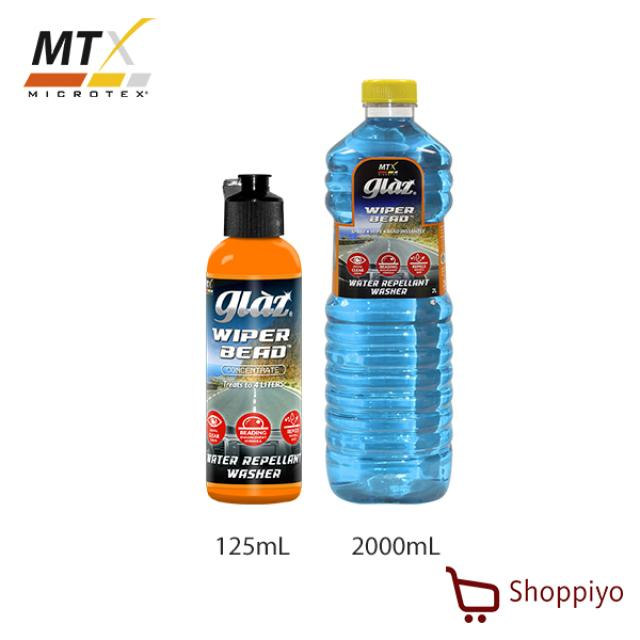winwinshield_washer: (324, 71, 458, 509), (202, 166, 306, 506)
